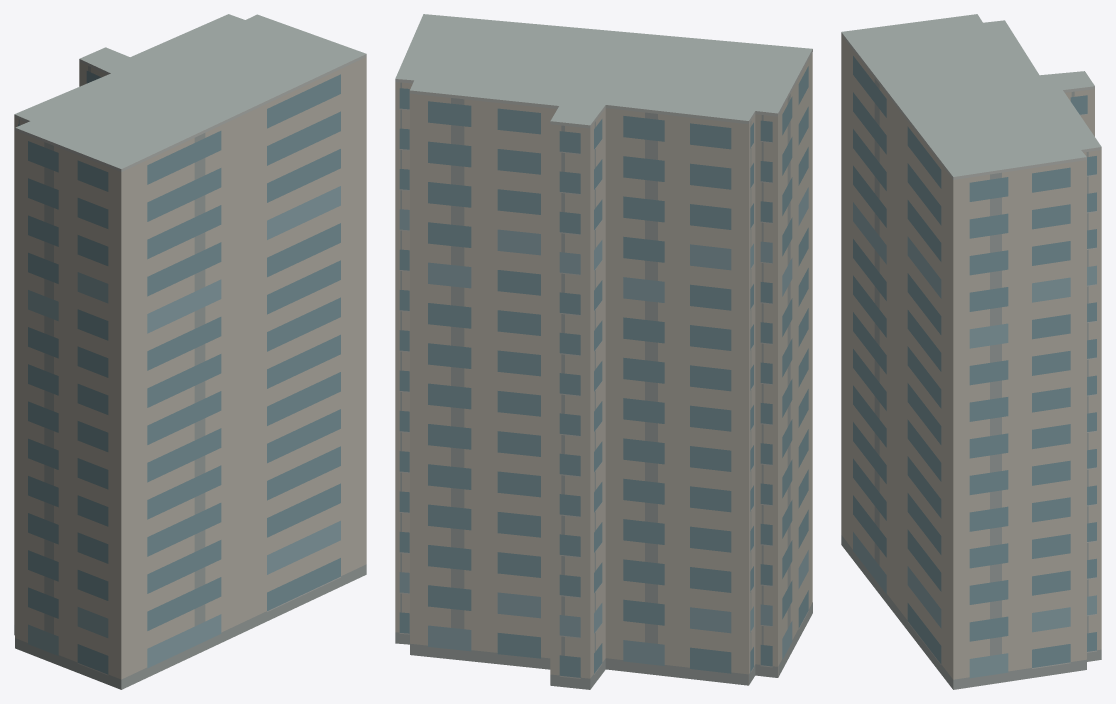
File: residential-b6e79cb3-bfe7-4dfa-aad0-b3c6d1a413aa.glb
3 views of the same model, side by side, from view 1: azimuth 30°, elevation 25°; view 2: azimuth 150°, elevation 25°; view 3: azimuth 270°, elevation 25° (orthographic). The views are drawn at different scales.
Parts seen in each view (by area): view 1: residential-b6e79cb3-bfe7-4dfa-aad0-b3c6d1a413aa.tmp; view 2: residential-b6e79cb3-bfe7-4dfa-aad0-b3c6d1a413aa.tmp; view 3: residential-b6e79cb3-bfe7-4dfa-aad0-b3c6d1a413aa.tmp.
Part boxes in pixels (bbox=[...]): residential-b6e79cb3-bfe7-4dfa-aad0-b3c6d1a413aa.tmp: bbox=[14, 14, 366, 689]; residential-b6e79cb3-bfe7-4dfa-aad0-b3c6d1a413aa.tmp: bbox=[395, 14, 812, 689]; residential-b6e79cb3-bfe7-4dfa-aad0-b3c6d1a413aa.tmp: bbox=[841, 14, 1101, 689].
Bounding box in the file's own units: 29.34 × 43 × 19.8.
